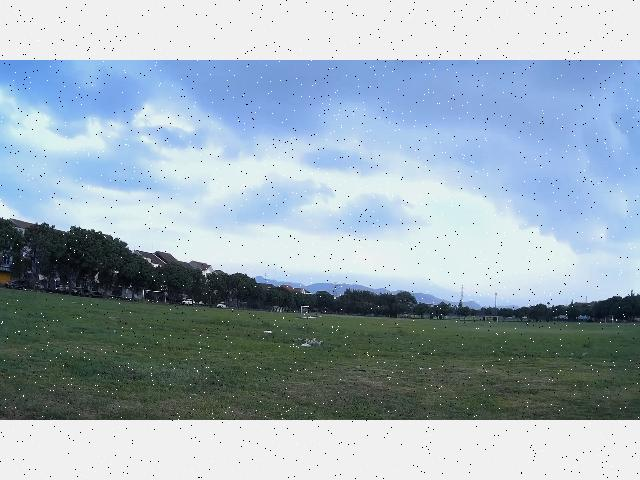Anti-Drone: (288, 311, 338, 325)
